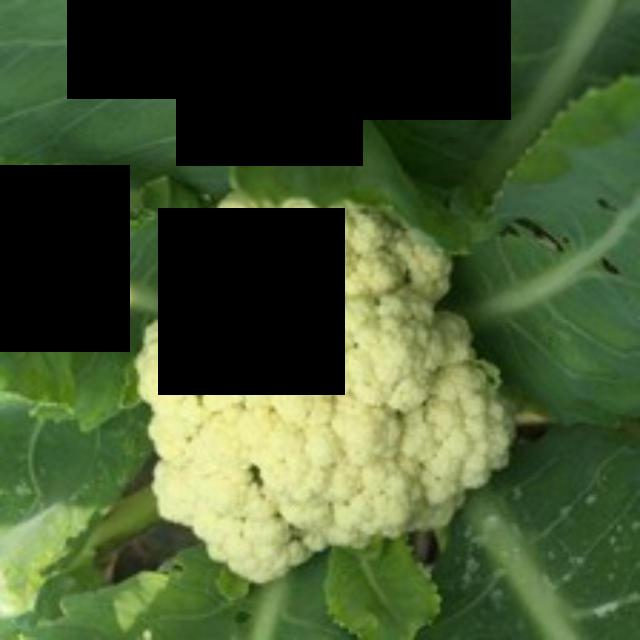cauliflower: (125, 179, 524, 598)
